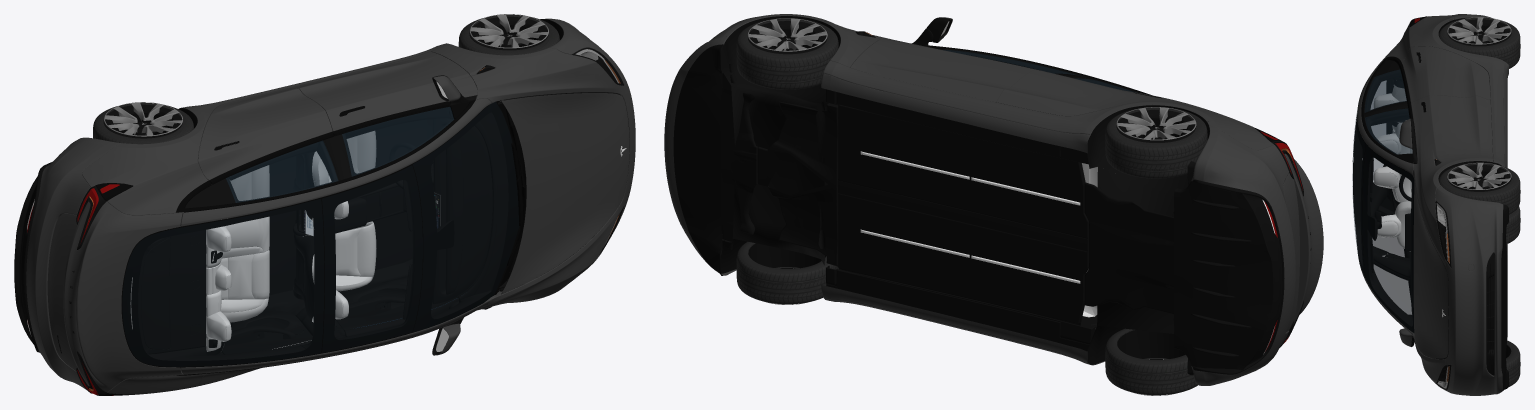
3 views of the same model, side by side, from view 1: azimuth 30°, elevation 25°; view 2: azimuth 150°, elevation 25°; view 3: azimuth 270°, elevation 25° (orthographic). The views are drawn at different scales.
Parts seen in each view (by area): view 1: body, wheel_rl, wheel_fl; view 2: body, wheel_fl, wheel_rl, wheel_fr, wheel_rr; view 3: body, wheel_fl, wheel_rl, wheel_fr, wheel_rr.
Part boxes in pixels (left/top/right/bottom): body: left=14, top=18, right=635, bottom=395; wheel_rl: left=93, top=102, right=193, bottom=144; wheel_fl: left=458, top=14, right=559, bottom=55; body: left=664, top=14, right=1323, bottom=385; wheel_fl: left=731, top=15, right=840, bottom=108; wheel_rl: left=1098, top=105, right=1209, bottom=196; wheel_fr: left=733, top=221, right=838, bottom=304; wheel_rr: left=1105, top=328, right=1197, bottom=395; body: left=1352, top=14, right=1509, bottom=395; wheel_fl: left=1437, top=162, right=1520, bottom=214; wheel_rl: left=1438, top=17, right=1520, bottom=68; wheel_fr: left=1506, top=340, right=1520, bottom=387; wheel_rr: left=1506, top=206, right=1520, bottom=243.
Bounding box in the file's own units: 4.72 × 2.09 × 1.41.
Materials: 20 (3 with a texture image).
